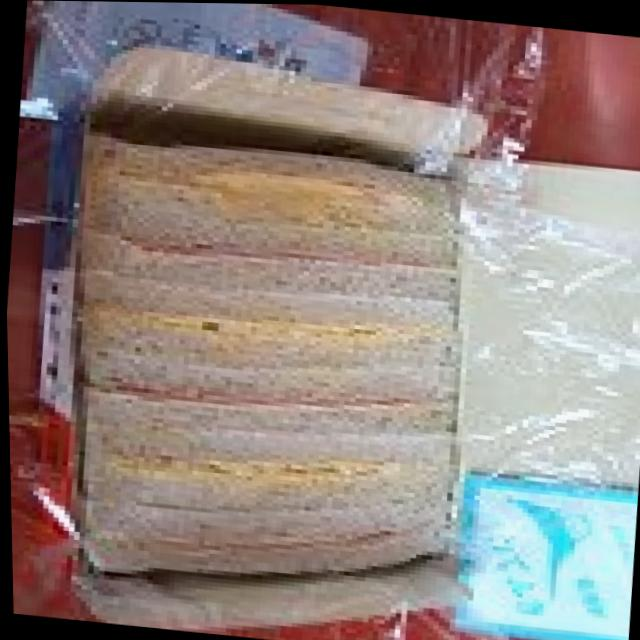三明治: (45, 32, 517, 640)
